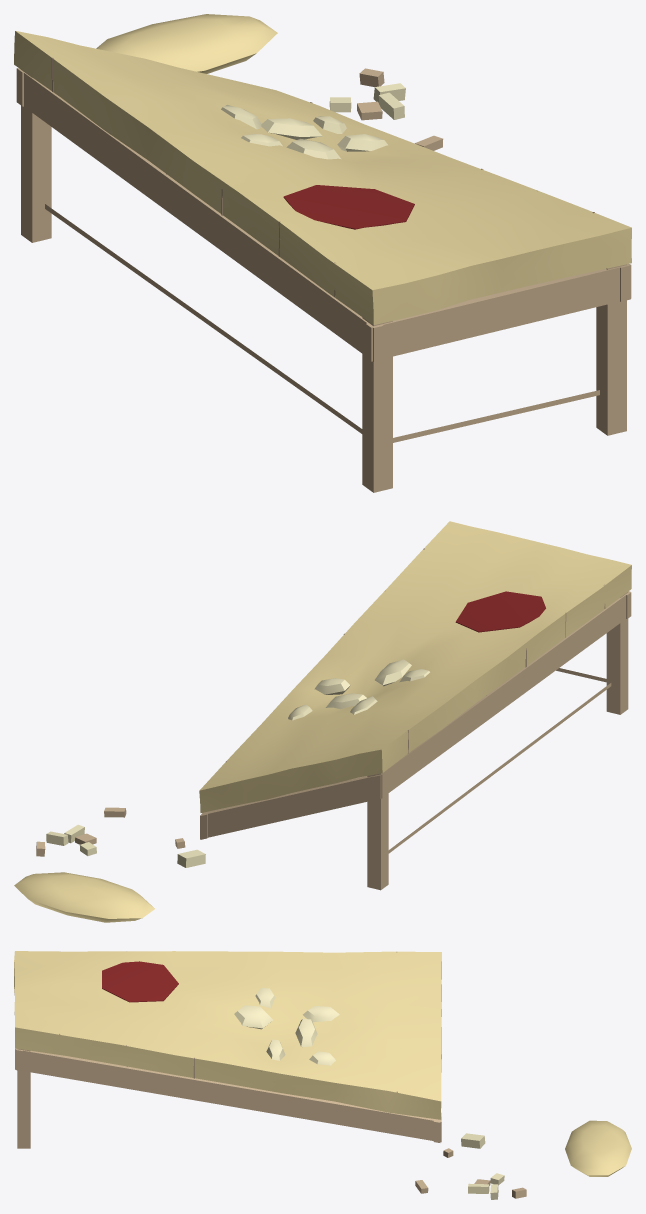
File: therapy_bed_broken.fbx
3 renders of one model, top to bottom at view 1: azimuth 30°, elevation 25°; view 2: azimuth 150°, elevation 25°; view 3: azimuth 270°, elevation 25°, orthographic. The views are drawn at different scales.
Visible parts, largest first — view 1: therapy_bed_broken, therapy_bed_broken_debris; view 2: therapy_bed_broken, therapy_bed_broken_debris; view 3: therapy_bed_broken, therapy_bed_broken_debris.
Part boxes in pixels (x1=…): therapy_bed_broken: x1=14, y1=31, x2=631, y2=492; therapy_bed_broken_debris: x1=96, y1=14, x2=443, y2=150; therapy_bed_broken: x1=199, y1=521, x2=631, y2=890; therapy_bed_broken_debris: x1=14, y1=807, x2=205, y2=922; therapy_bed_broken: x1=14, y1=951, x2=441, y2=1148; therapy_bed_broken_debris: x1=415, y1=1120, x2=631, y2=1199.
Size of the model in its own units: 133 by 60.77 by 275.
